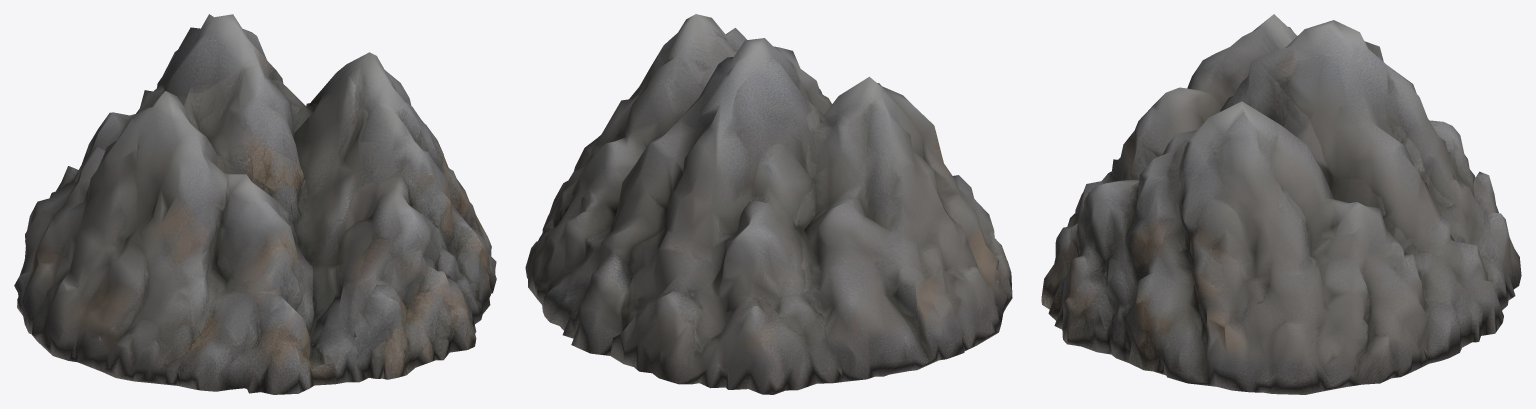
The model's file is mountain_cluster.glb.
3 views of the same model, side by side, from view 1: azimuth 30°, elevation 25°; view 2: azimuth 150°, elevation 25°; view 3: azimuth 270°, elevation 25° (orthographic).
Visible parts, largest first — view 1: tripo_node_2e3936e5-015c-4bdf-ad4a-9686eba3d3bf; view 2: tripo_node_2e3936e5-015c-4bdf-ad4a-9686eba3d3bf; view 3: tripo_node_2e3936e5-015c-4bdf-ad4a-9686eba3d3bf.
Part boxes in pixels (bbox=[...]): tripo_node_2e3936e5-015c-4bdf-ad4a-9686eba3d3bf: bbox=[14, 14, 496, 394]; tripo_node_2e3936e5-015c-4bdf-ad4a-9686eba3d3bf: bbox=[525, 14, 1012, 394]; tripo_node_2e3936e5-015c-4bdf-ad4a-9686eba3d3bf: bbox=[1041, 14, 1521, 394].
Bounding box in the file's own units: 1 × 0.584 × 0.9667.
1 material, 1 textured.
